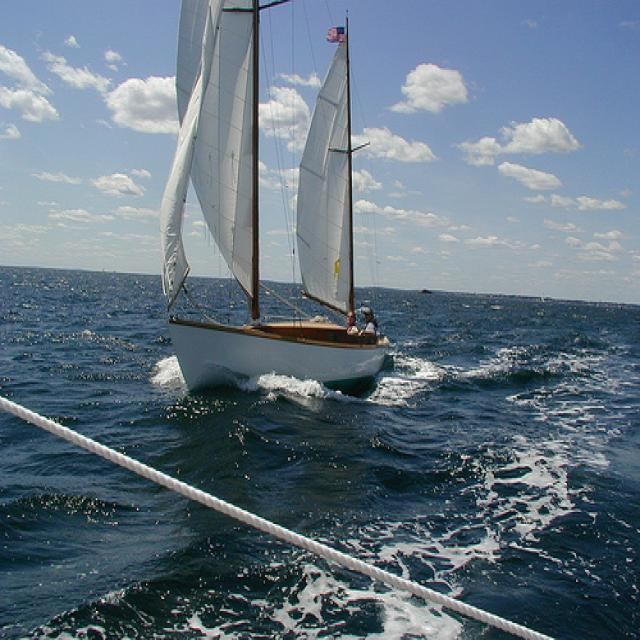Ship: (157, 3, 392, 387)
